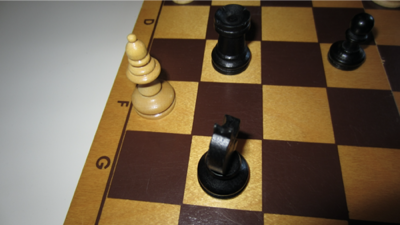black-bishop: (196, 113, 251, 202)
black-pawn: (327, 12, 375, 72)
black-rook: (211, 4, 253, 76)
white-bishop: (125, 32, 178, 120)
